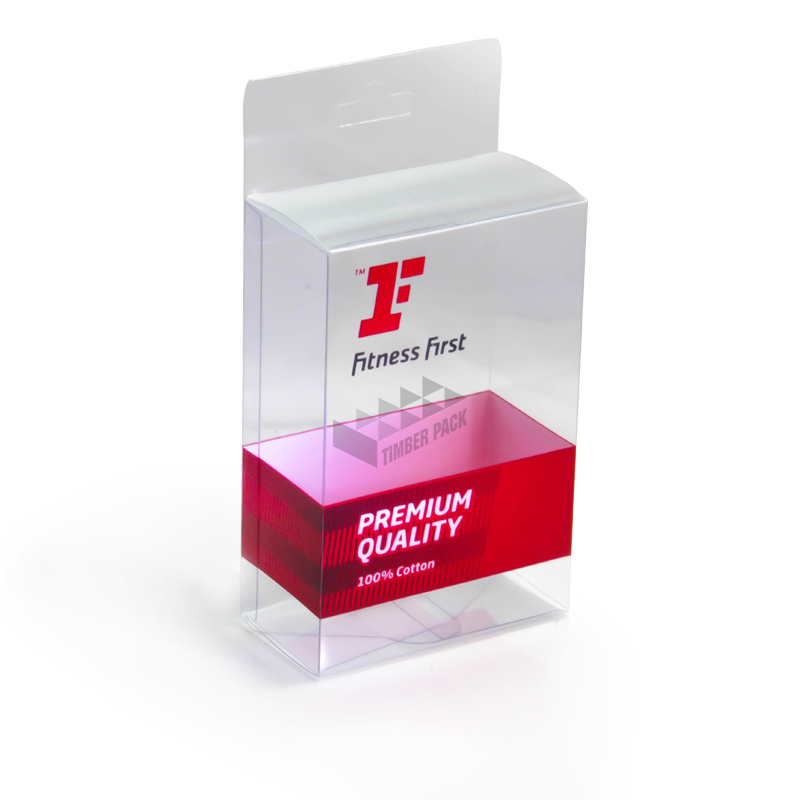PlasticBox: (230, 33, 594, 687)
